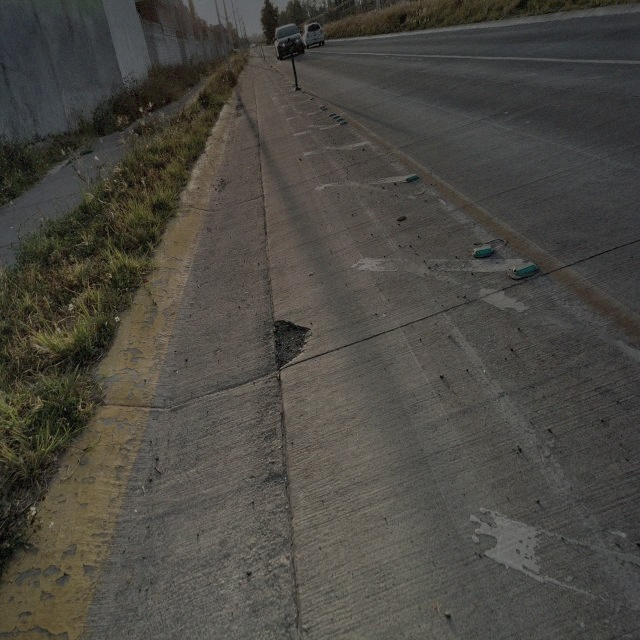pothole: (272, 317, 316, 368)
